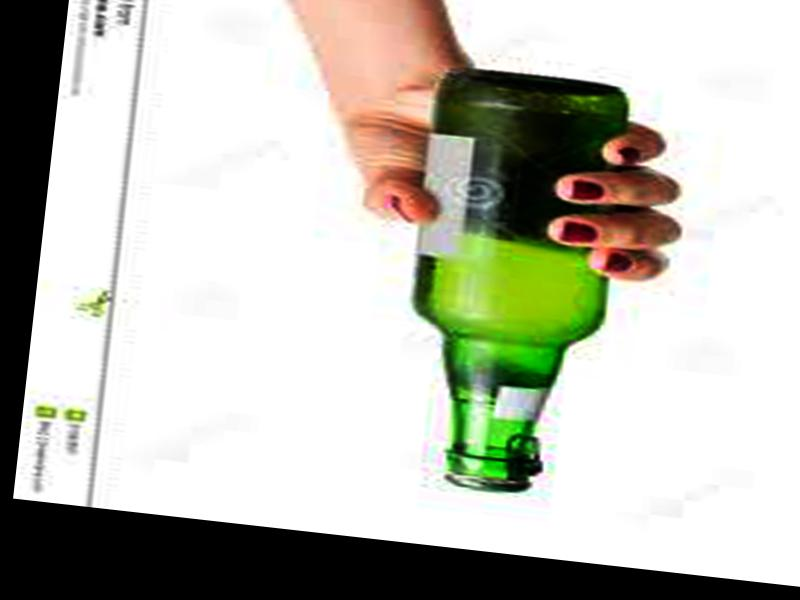Beer: (385, 65, 642, 503)
